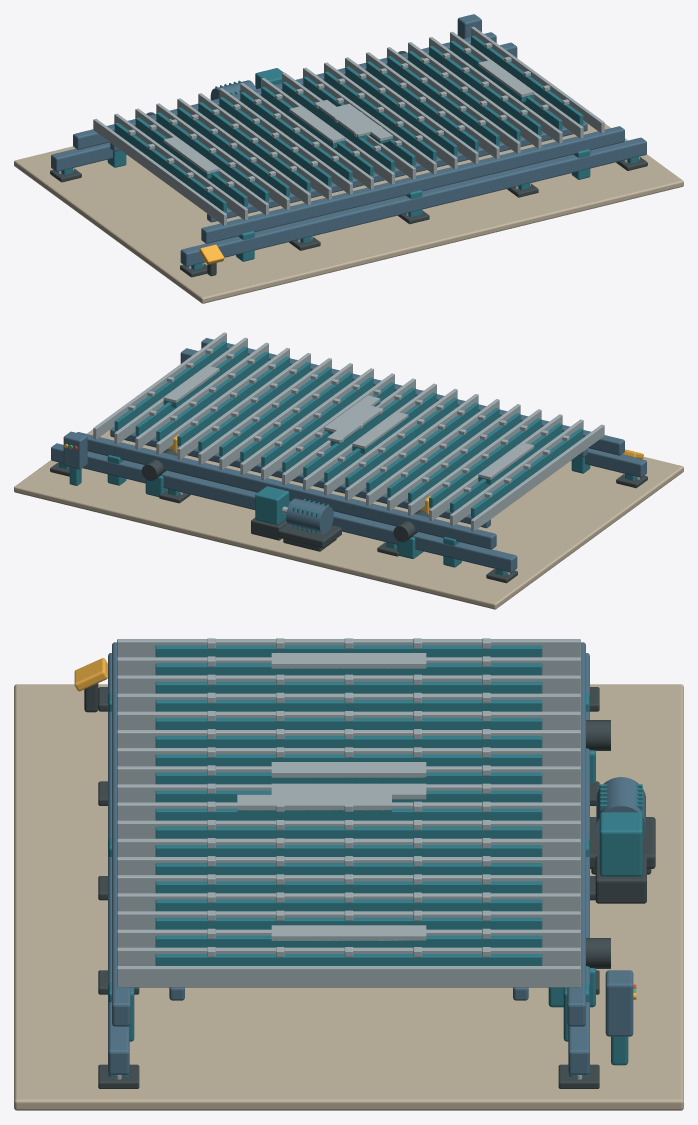
Rendered from CS-PLATE-05-lod0.glb.
The picture shows the model from 3 angles, top to bottom: view 1: azimuth 30°, elevation 25°; view 2: azimuth 150°, elevation 25°; view 3: azimuth 270°, elevation 25°; orthographic projection. The views are drawn at different scales.
Parts seen in each view (by area): view 1: foundation, right_bed_beam, right_rack_sill, fixed_rack_0, right_transfer_rail, moving_rack_14, moving_rack_12, moving_rack_11, moving_rack_6, moving_rack_0, moving_rack_13, moving_rack_15 (+37 smaller); view 2: foundation, left_rack_sill, left_bed_beam, fixed_rack_0, moving_rack_10, moving_rack_2, moving_rack_0, moving_rack_12, moving_rack_14, moving_rack_5, moving_rack_6, moving_rack_13 (+43 smaller); view 3: foundation, fixed_rack_18, moving_rack_13, moving_rack_14, moving_rack_2, moving_rack_3, moving_rack_10, moving_rack_17, moving_rack_12, moving_rack_5, moving_rack_11, moving_rack_4 (+49 smaller).
Part boxes in pixels (<box>): foundation: <box>14,120,683,303</box>; right_bed_beam: <box>180,137,646,266</box>; right_rack_sill: <box>201,126,624,243</box>; fixed_rack_0: <box>93,118,226,225</box>; right_transfer_rail: <box>207,121,587,222</box>; moving_rack_14: <box>408,51,520,140</box>; moving_rack_12: <box>366,61,478,150</box>; moving_rack_11: <box>345,66,457,155</box>; moving_rack_6: <box>240,92,352,181</box>; moving_rack_0: <box>114,122,226,212</box>; moving_rack_13: <box>387,56,499,145</box>; moving_rack_15: <box>429,46,541,135</box>; foundation: <box>14,426,683,609</box>; left_rack_sill: <box>77,432,496,549</box>; left_bed_beam: <box>51,443,517,572</box>; fixed_rack_0: <box>471,424,604,531</box>; moving_rack_10: <box>261,377,373,466</box>; moving_rack_2: <box>429,418,541,507</box>; moving_rack_0: <box>471,428,583,517</box>; moving_rack_12: <box>219,367,331,456</box>; moving_rack_14: <box>177,356,289,446</box>; moving_rack_5: <box>366,402,478,492</box>; moving_rack_6: <box>345,397,457,487</box>; moving_rack_13: <box>198,362,310,451</box>; foundation: <box>14,684,683,1110</box>; fixed_rack_18: <box>117,966,580,987</box>; moving_rack_13: <box>155,881,542,893</box>; moving_rack_14: <box>155,899,542,911</box>; moving_rack_2: <box>155,681,542,693</box>; moving_rack_3: <box>155,699,542,711</box>; moving_rack_10: <box>155,826,542,838</box>; moving_rack_17: <box>155,954,542,965</box>; moving_rack_12: <box>155,863,542,874</box>; moving_rack_5: <box>155,736,542,747</box>; moving_rack_11: <box>155,845,542,856</box>; moving_rack_4: <box>155,718,542,729</box>.
Size of the model in its own units: 11.5 by 1.42 by 7.8.
